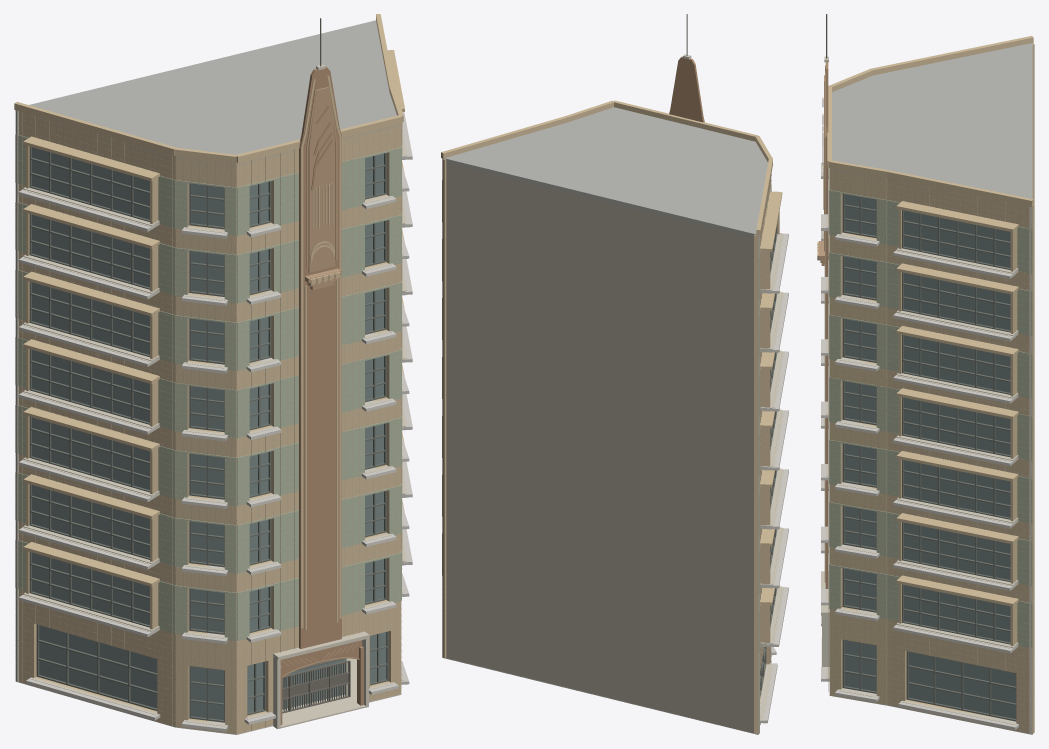
File: huangpu-astrid-apartments-corner-lod.glb
3 renders of one model, left to right at view 1: azimuth 30°, elevation 25°; view 2: azimuth 150°, elevation 25°; view 3: azimuth 270°, elevation 25°, orthographic. The views are drawn at different scales.
Parts seen in each view (by area): view 1: 南昌大楼（阿斯屈来特公寓）街角入口; view 2: 南昌大楼（阿斯屈来特公寓）街角入口; view 3: 南昌大楼（阿斯屈来特公寓）街角入口.
Part boxes in pixels (x1=…): 南昌大楼（阿斯屈来特公寓）街角入口: x1=14, y1=14, x2=412, y2=734; 南昌大楼（阿斯屈来特公寓）街角入口: x1=441, y1=14, x2=788, y2=734; 南昌大楼（阿斯屈来特公寓）街角入口: x1=817, y1=14, x2=1034, y2=734.
Bounding box in the file's own units: 19.27 × 33.47 × 10.24.
